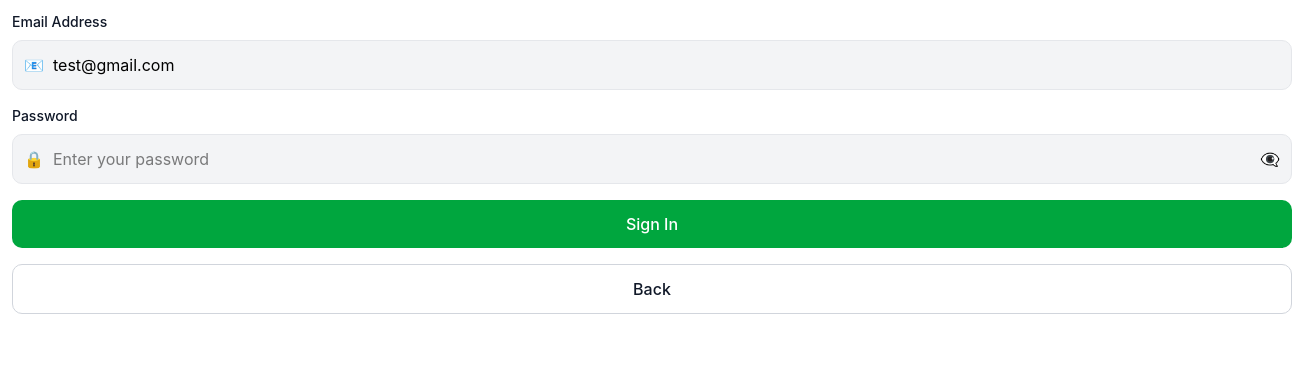
Scenario: LoginForm › shows validation error when email is empty
This screenshot has width=1304, height=367.
Clear the field labelled "Email Address": coordinates (652, 65) [12,40,1292,90]
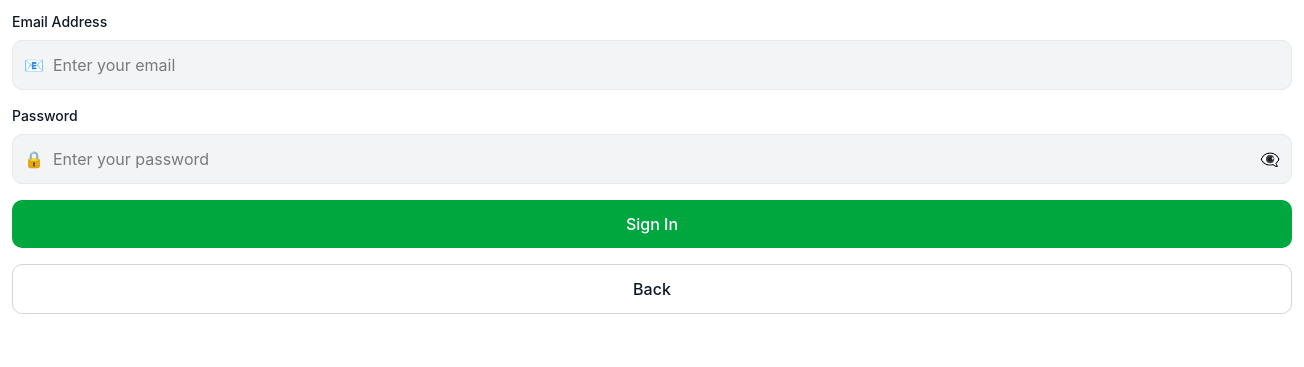
In the password field labelled "Password": coordinates (652, 159) [12,134,1292,184], type "password123"
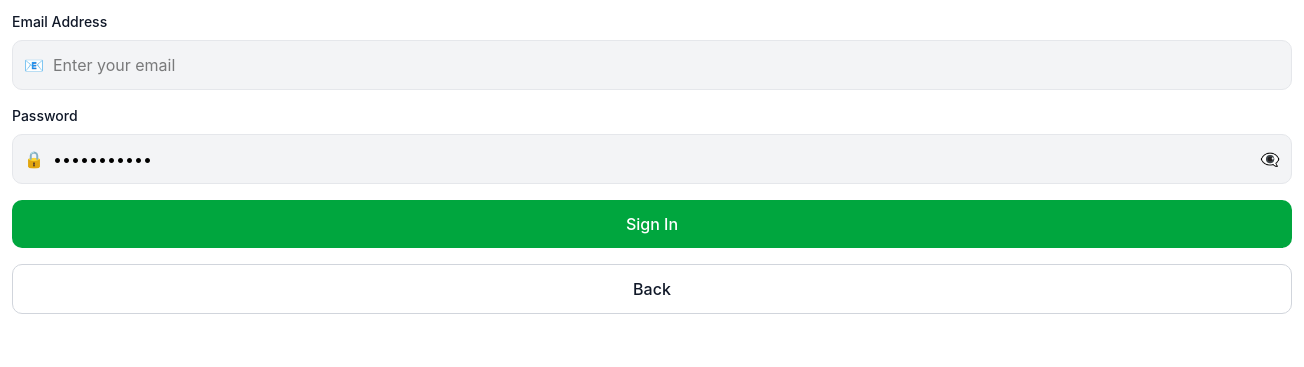
Click the button "Sign In": coordinates (652, 224) [12,200,1292,248]
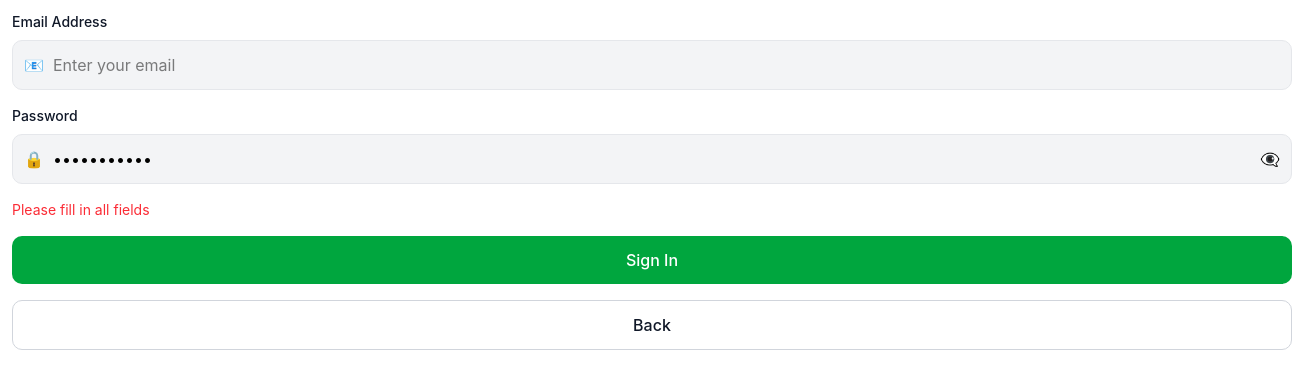
Expected: the text "Please fill in all fields" is shown, [12,201,150,218]
